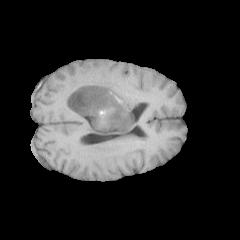glioma: (69, 84, 135, 135)
